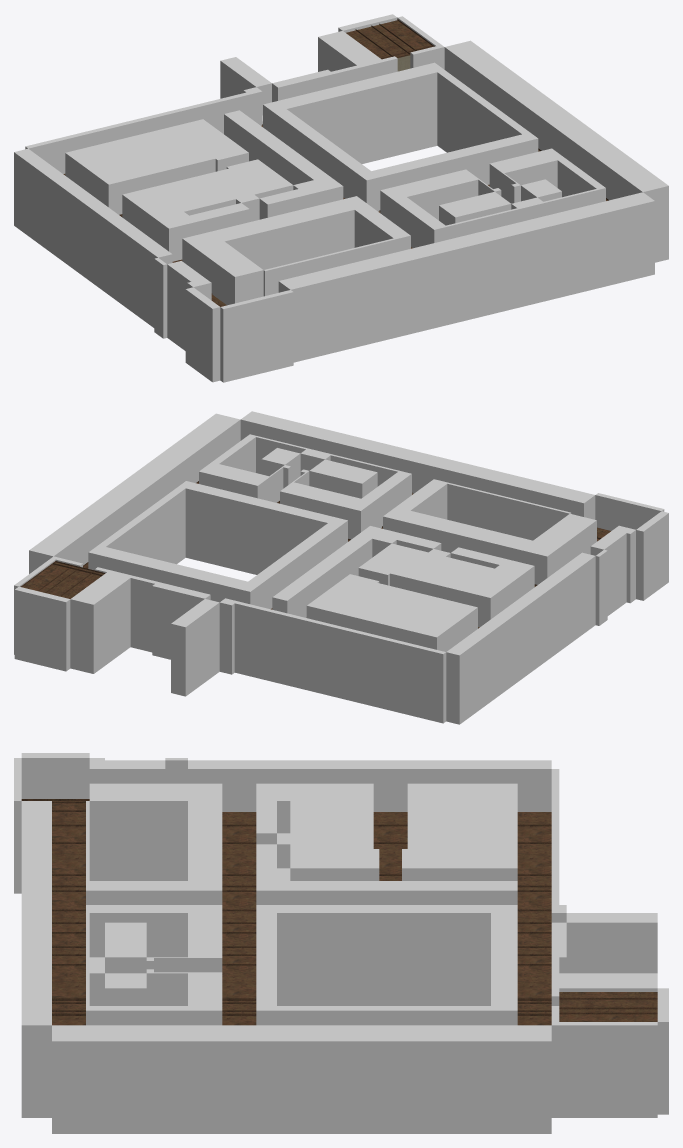
The picture shows the model from 3 angles, top to bottom: view 1: azimuth 30°, elevation 25°; view 2: azimuth 150°, elevation 25°; view 3: azimuth 270°, elevation 25°; orthographic projection. The views are drawn at different scales.
Parts seen in each view (by area): view 1: COL, S_concrete_smooth; view 2: COL, S_concrete_smooth; view 3: COL, S_concrete_smooth.
Boxes of the visible parts, x1,y1,x2,y2 form: COL: (14,14,668,382); S_concrete_smooth: (63,19,608,306); COL: (14,411,668,724); S_concrete_smooth: (20,481,610,628); COL: (14,753,668,1133); S_concrete_smooth: (21,799,657,1025).
Bounding box in the file's own units: 36 × 5.4 × 34.6.
Materials: 61 (33 with a texture image).
